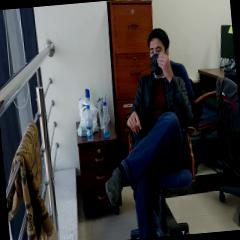not-gloved: (157, 54, 174, 82), (127, 109, 142, 138)
